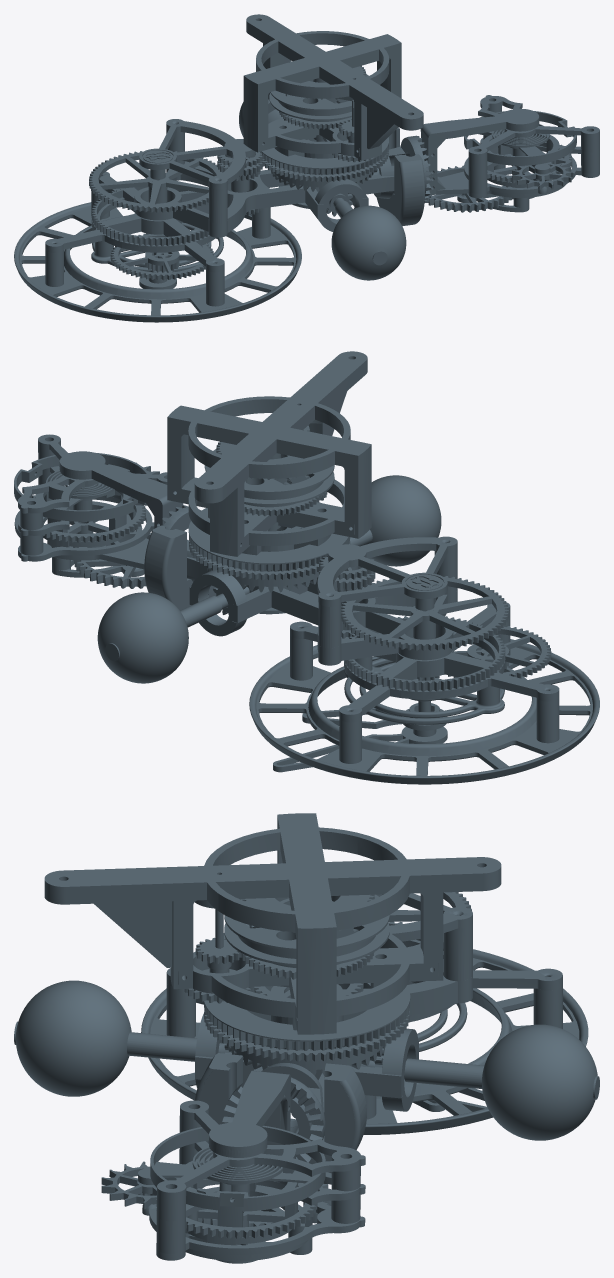
File: triaxial-tourbillon-clock__41e05ebc.glb
The picture shows the model from 3 angles, top to bottom: view 1: azimuth 30°, elevation 25°; view 2: azimuth 150°, elevation 25°; view 3: azimuth 270°, elevation 25°; orthographic projection. The views are drawn at different scales.
Visible parts, largest first — view 1: Object_2, Object_3, Object_4, Object_5; view 2: Object_2, Object_3, Object_4, Object_5; view 3: Object_2, Object_4, Object_3, Object_5.
Boxes of the visible parts, x1=… form: Object_2: x1=217, y1=14, x2=424, y2=226; Object_3: x1=45, y1=65, x2=539, y2=289; Object_4: x1=139, y1=95, x2=599, y2=280; Object_5: x1=14, y1=180, x2=301, y2=322; Object_2: x1=144, y1=351, x2=374, y2=614; Object_3: x1=59, y1=441, x2=559, y2=772; Object_4: x1=14, y1=434, x2=446, y2=725; Object_5: x1=249, y1=580, x2=599, y2=784; Object_2: x1=44, y1=813, x2=501, y2=1183; Object_4: x1=14, y1=894, x2=599, y2=1263; Object_3: x1=166, y1=892, x2=562, y2=1245; Object_5: x1=141, y1=949, x2=588, y2=1134.
Bounding box in the file's own units: 1.44 × 0.5524 × 0.932.
Materials: 1 (1 with a texture image).
